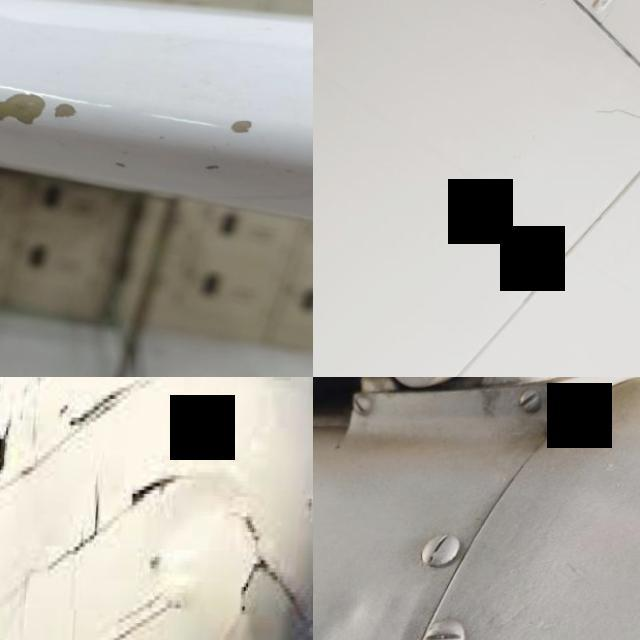Crack: (0, 46, 277, 141), (236, 532, 313, 640), (118, 475, 186, 512), (577, 93, 640, 124), (0, 421, 23, 480)
Dent: (313, 576, 412, 640)
